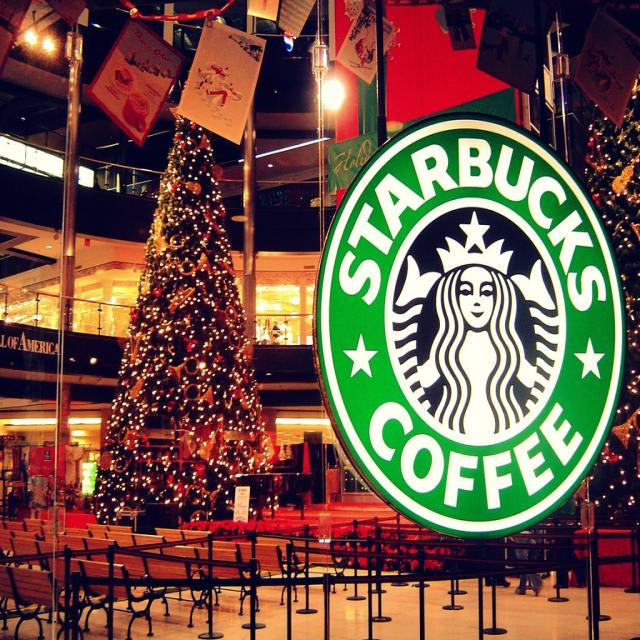starbucks: (314, 115, 625, 540)
